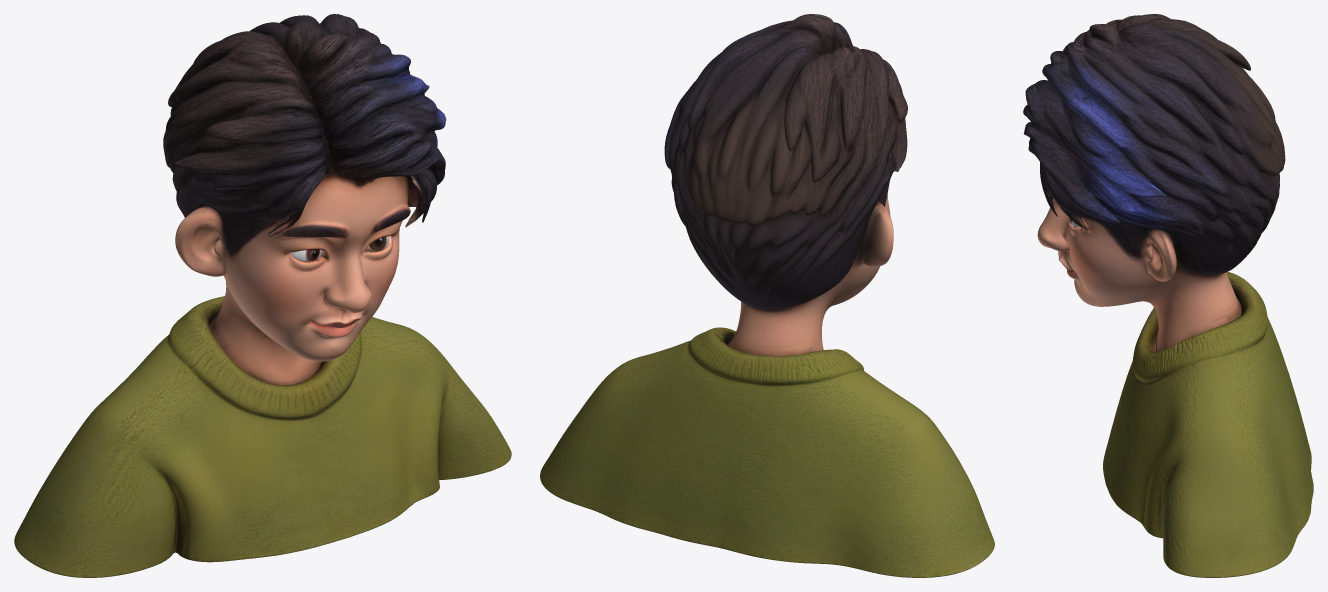
The model's file is character-optimized.glb.
3 views of the same model, side by side, from view 1: azimuth 30°, elevation 25°; view 2: azimuth 150°, elevation 25°; view 3: azimuth 270°, elevation 25° (orthographic). The views are drawn at different scales.
Parts seen in each view (by area): view 1: part_1, part_0; view 2: part_1, part_0; view 3: part_0, part_1.
Part boxes in pixels (left/top/right/bottom): part_1: left=14, top=296, right=511, bottom=577; part_0: left=163, top=14, right=446, bottom=385; part_1: left=540, top=327, right=994, bottom=577; part_0: left=664, top=14, right=907, bottom=356; part_0: left=1023, top=14, right=1285, bottom=352; part_1: left=1103, top=272, right=1313, bottom=577.
Bounding box in the file's own units: 0.8339 × 0.8436 × 0.4919.
1 material, 1 textured.
